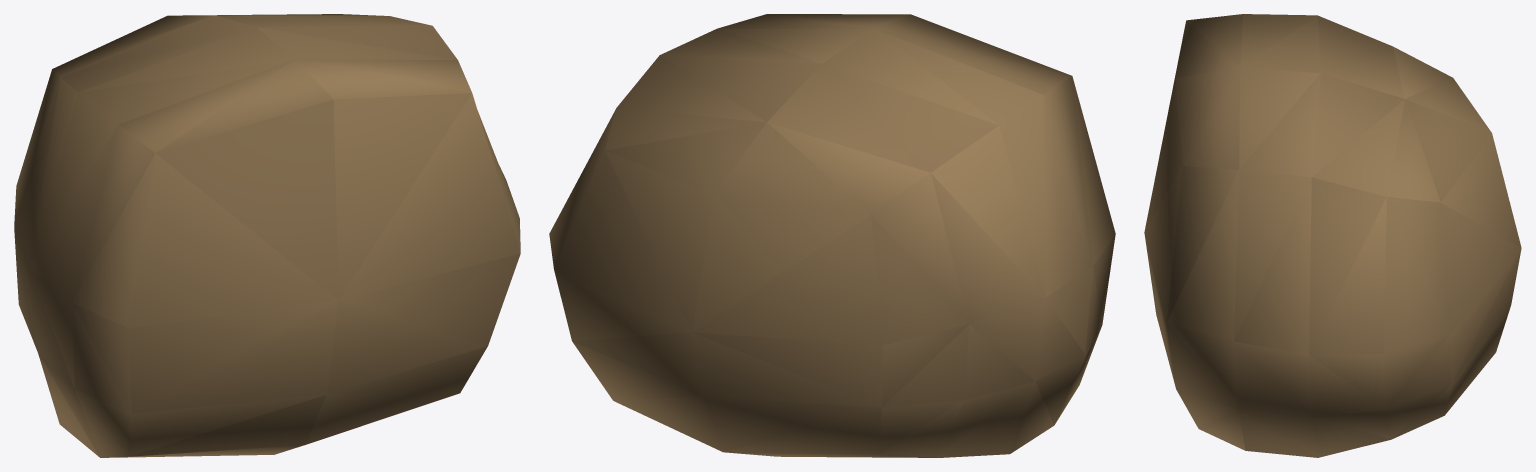
The model's file is SmallSandChunk.002.glb.
3 renders of one model, left to right at view 1: azimuth 30°, elevation 25°; view 2: azimuth 150°, elevation 25°; view 3: azimuth 270°, elevation 25°, orthographic. The views are drawn at different scales.
Visible parts, largest first — view 1: SmallSandChunk.002; view 2: SmallSandChunk.002; view 3: SmallSandChunk.002.
Boxes of the visible parts, x1,y1,x2,y2 form: SmallSandChunk.002: [14, 14, 520, 457]; SmallSandChunk.002: [549, 14, 1115, 457]; SmallSandChunk.002: [1144, 14, 1521, 457].
Bounding box in the file's own units: 320 × 255 × 255.
